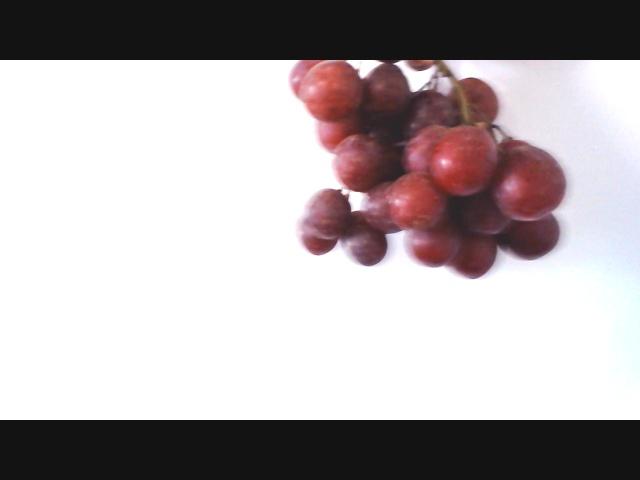grape: (278, 62, 582, 281)
